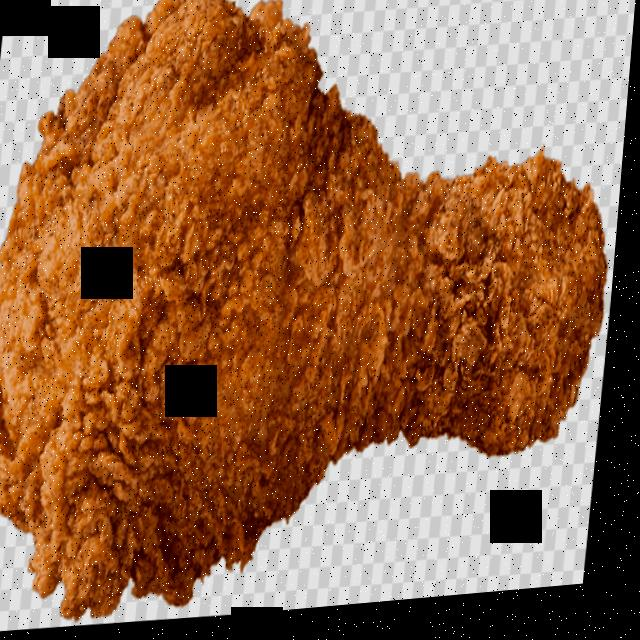Frango: (0, 0, 640, 640)
